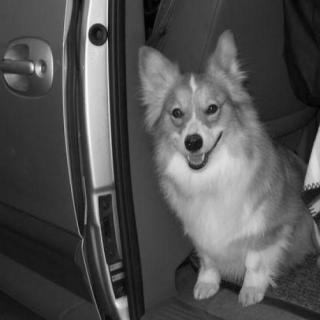dog: (130, 33, 259, 178)
nose: (182, 130, 205, 155)
